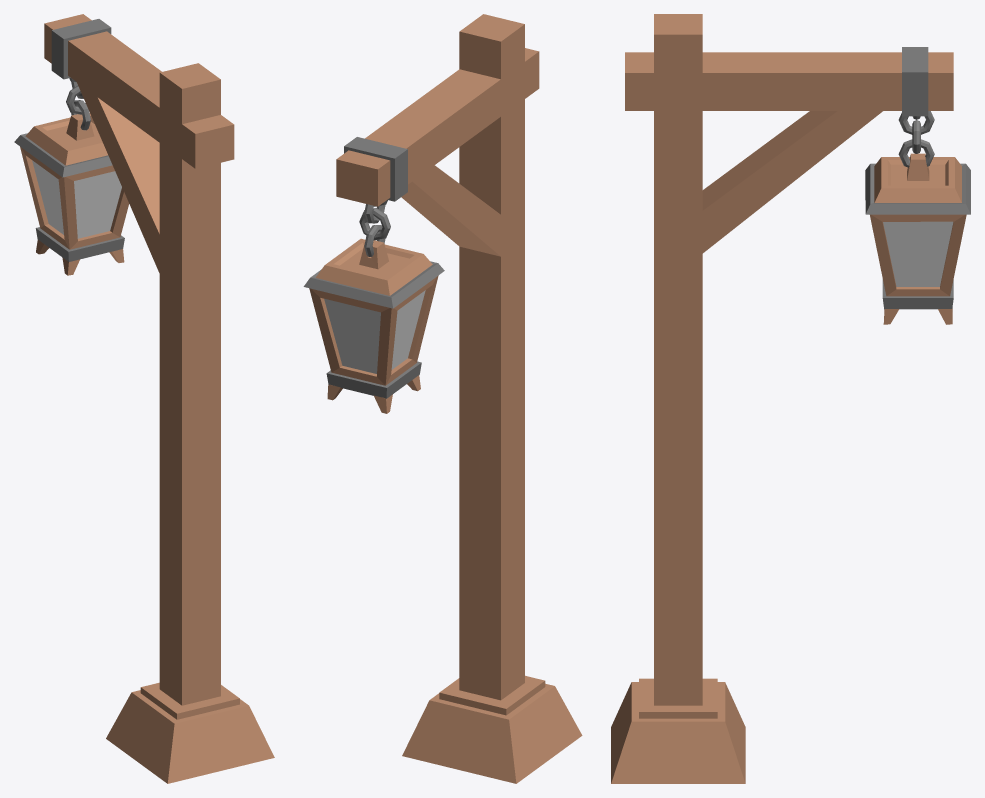
Rendered from streetlight.fbx.
3 renders of one model, left to right at view 1: azimuth 30°, elevation 25°; view 2: azimuth 150°, elevation 25°; view 3: azimuth 270°, elevation 25°, orthographic. The views are drawn at different scales.
Parts seen in each view (by area): view 1: Street light; view 2: Street light; view 3: Street light.
Boxes of the visible parts, box(x1,y1,x2,y2) form: Street light: box(14, 14, 274, 783); Street light: box(303, 14, 582, 783); Street light: box(611, 14, 970, 783).
Bounding box in the file's own units: 81.85 × 491 × 219.
